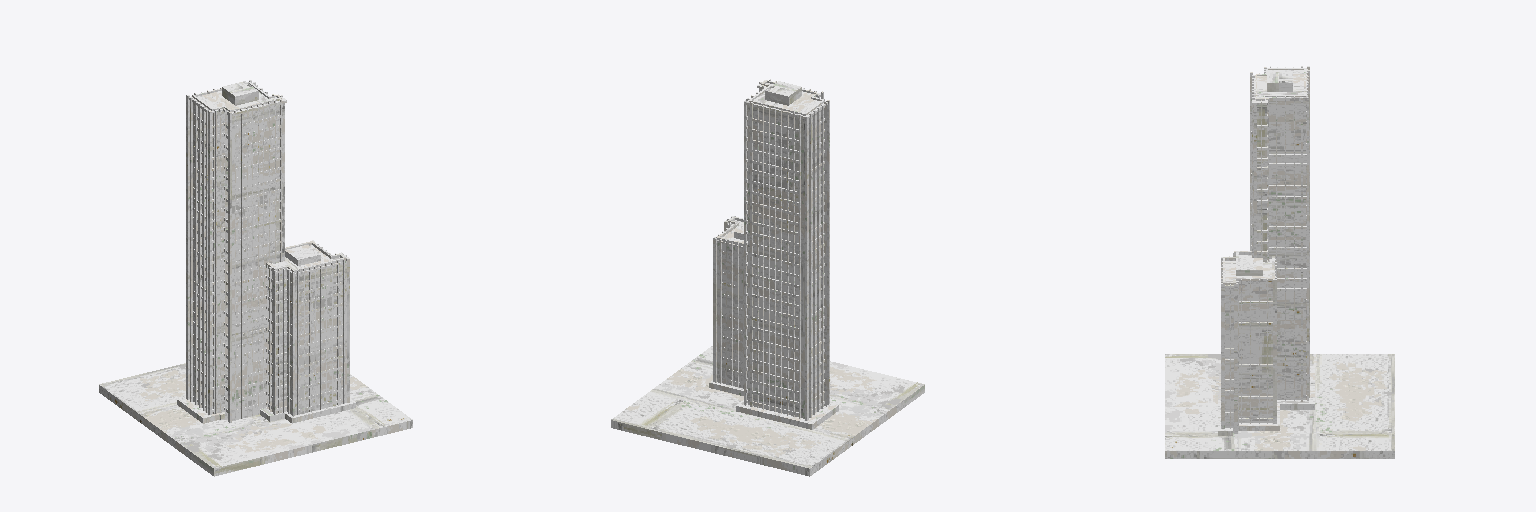
3 renders of one model, left to right at view 1: azimuth 30°, elevation 25°; view 2: azimuth 150°, elevation 25°; view 3: azimuth 270°, elevation 25°, orthographic.
Parts seen in each view (by area): view 1: building; view 2: building; view 3: building.
Boxes of the visible parts, x1=… form: building: x1=99, y1=80, x2=412, y2=476; building: x1=611, y1=79, x2=924, y2=476; building: x1=1165, y1=66, x2=1394, y2=458.
Bounding box in the file's own units: 42.87 × 70.25 × 42.87.
20 materials, 1 textured.